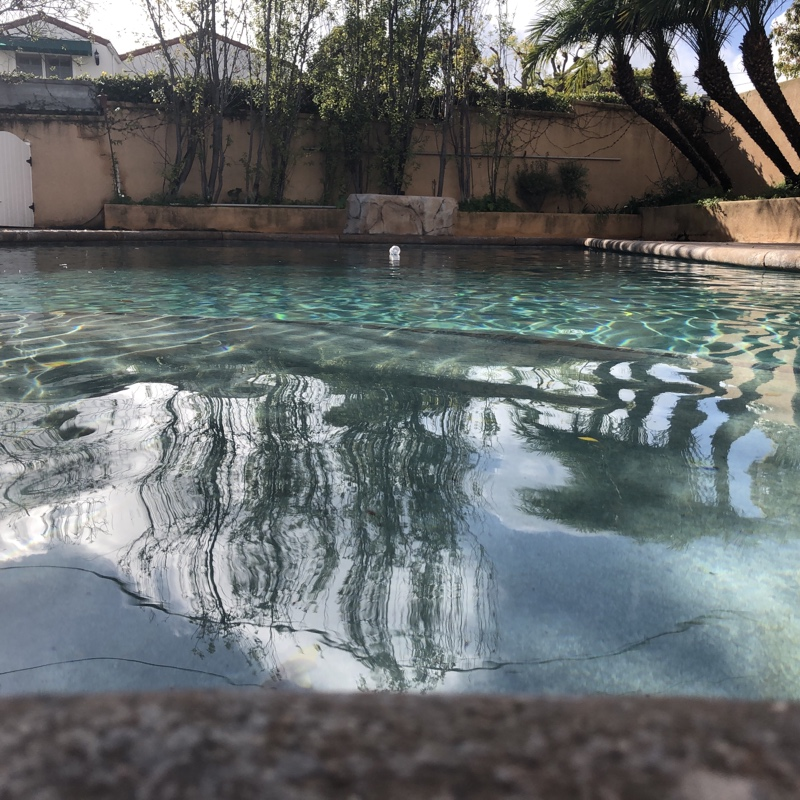Plastic Bottle: (386, 242, 398, 259)
